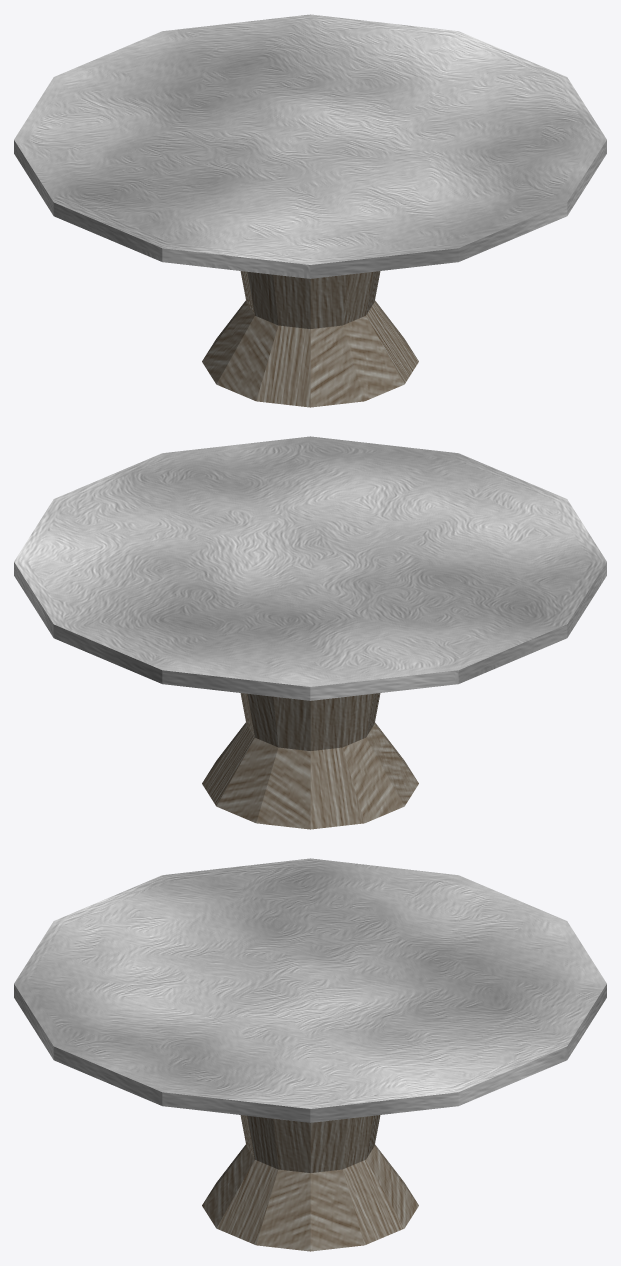
Rendered from round_table.glb.
The picture shows the model from 3 angles, top to bottom: view 1: azimuth 30°, elevation 25°; view 2: azimuth 150°, elevation 25°; view 3: azimuth 270°, elevation 25°; orthographic projection.
Parts seen in each view (by area): view 1: top, base; view 2: top, base; view 3: top, base.
Part boxes in pixels (x1,y1,x2,y2): top: (14,14,606,278); base: (202,271,418,407); top: (14,436,606,700); base: (202,693,418,829); top: (14,858,606,1122); base: (202,1115,418,1251).
Size of the model in its own units: 5.46 by 2.25 by 5.46.
1 material, 1 textured.
